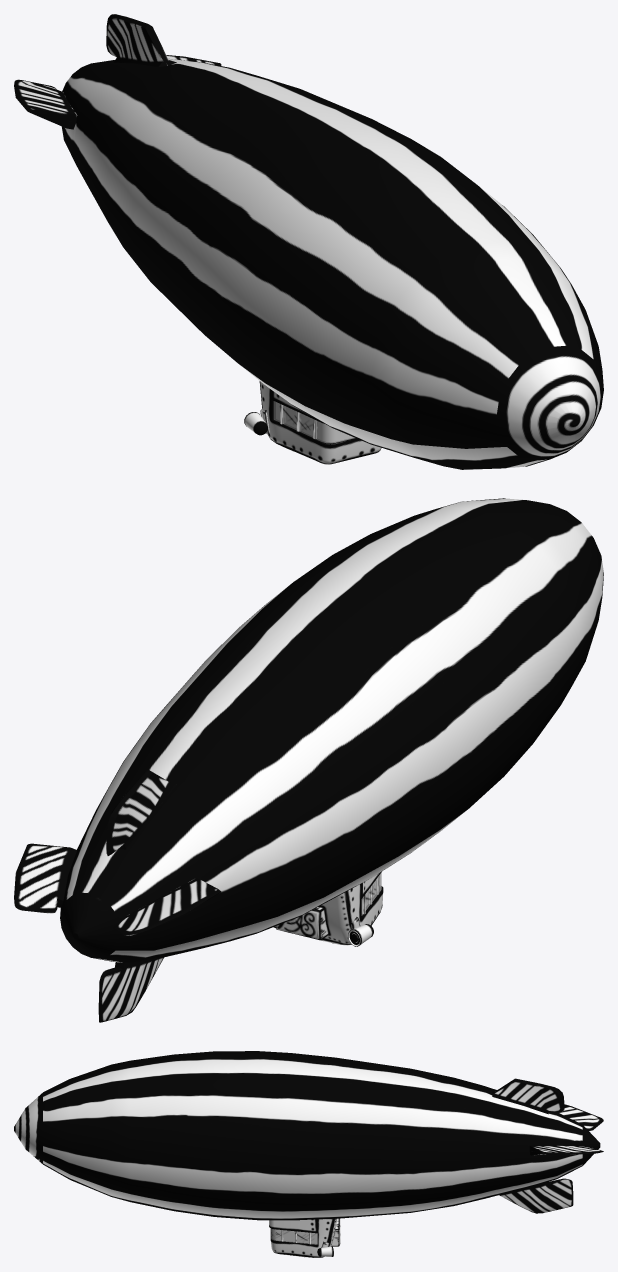
3 renders of one model, top to bottom at view 1: azimuth 30°, elevation 25°; view 2: azimuth 150°, elevation 25°; view 3: azimuth 270°, elevation 25°, orthographic. The views are drawn at different scales.
Parts seen in each view (by area): view 1: Blimp; view 2: Blimp; view 3: Blimp.
Boxes of the visible parts, bbox=[...] form: Blimp: bbox=[14, 14, 603, 469]; Blimp: bbox=[14, 498, 603, 1022]; Blimp: bbox=[14, 1051, 603, 1257].
Bounding box in the file's own units: 11.42 × 14.02 × 39.51.
1 material, 1 textured.
